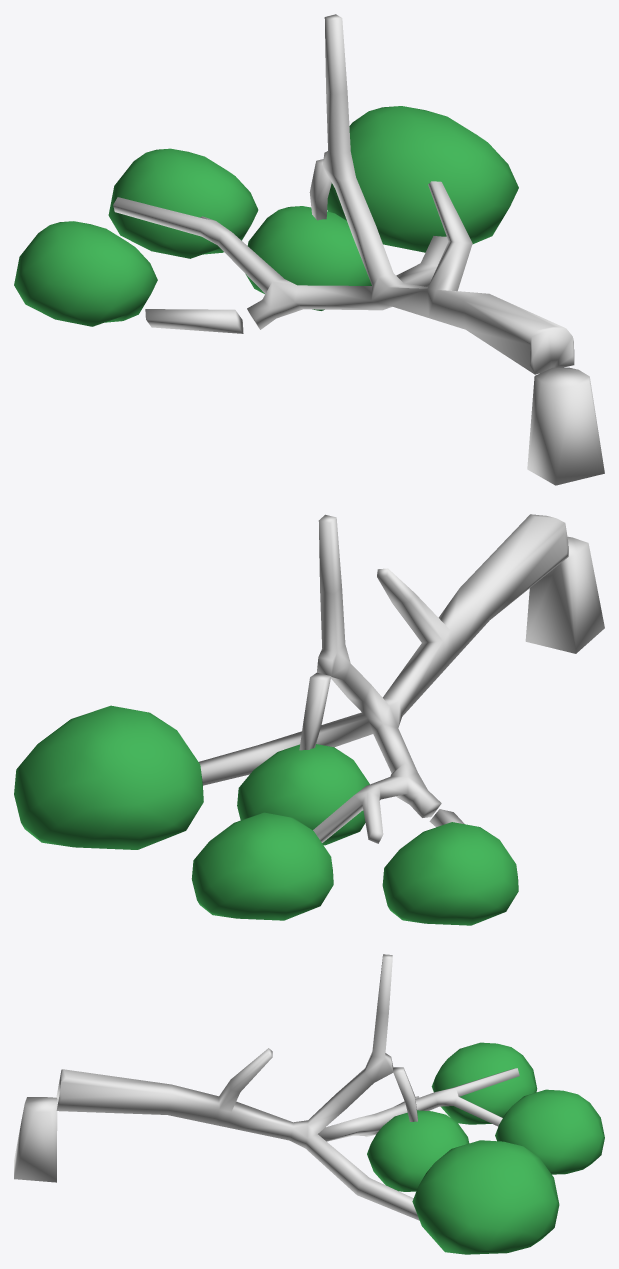
The model's file is treedown.fbx.
3 views of the same model, one above another, from view 1: azimuth 30°, elevation 25°; view 2: azimuth 150°, elevation 25°; view 3: azimuth 270°, elevation 25° (orthographic). The views are drawn at different scales.
Parts seen in each view (by area): view 1: Plane.004, Sphere.002, Sphere.007, Sphere.001, Plane.001, Sphere.003, Plane.002, Plane.005; view 2: Plane.004, Sphere.002, Sphere.001, Sphere.007, Sphere.003, Plane.001, Plane.005; view 3: Plane.004, Sphere.002, Sphere.001, Sphere.003, Sphere.007, Plane.001, Plane.005.
Boxes of the visible parts, bbox=[...] form: Plane.004: bbox=[113, 14, 574, 374]; Sphere.002: bbox=[327, 106, 518, 252]; Sphere.007: bbox=[14, 221, 157, 326]; Sphere.001: bbox=[108, 148, 258, 258]; Plane.001: bbox=[527, 367, 604, 485]; Sphere.003: bbox=[245, 206, 371, 310]; Plane.002: bbox=[145, 309, 243, 333]; Plane.005: bbox=[309, 159, 331, 220]; Plane.004: bbox=[199, 514, 568, 843]; Sphere.002: bbox=[14, 705, 203, 849]; Sphere.001: bbox=[191, 812, 333, 920]; Sphere.007: bbox=[382, 822, 518, 925]; Sphere.003: bbox=[237, 744, 369, 845]; Plane.001: bbox=[525, 536, 604, 653]; Plane.005: bbox=[299, 672, 331, 750]; Plane.004: bbox=[56, 954, 519, 1220]; Sphere.002: bbox=[412, 1140, 559, 1254]; Sphere.001: bbox=[495, 1089, 604, 1174]; Sphere.003: bbox=[367, 1110, 469, 1191]; Sphere.007: bbox=[431, 1042, 537, 1124]; Plane.001: bbox=[14, 1097, 57, 1182]; Plane.005: bbox=[393, 1067, 417, 1121].
Bounding box in the file's own units: 601 × 353 × 847.
